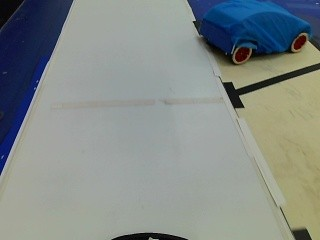car: (195, 0, 319, 64)
